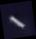Squash-Ball: (0, 1, 36, 39)
